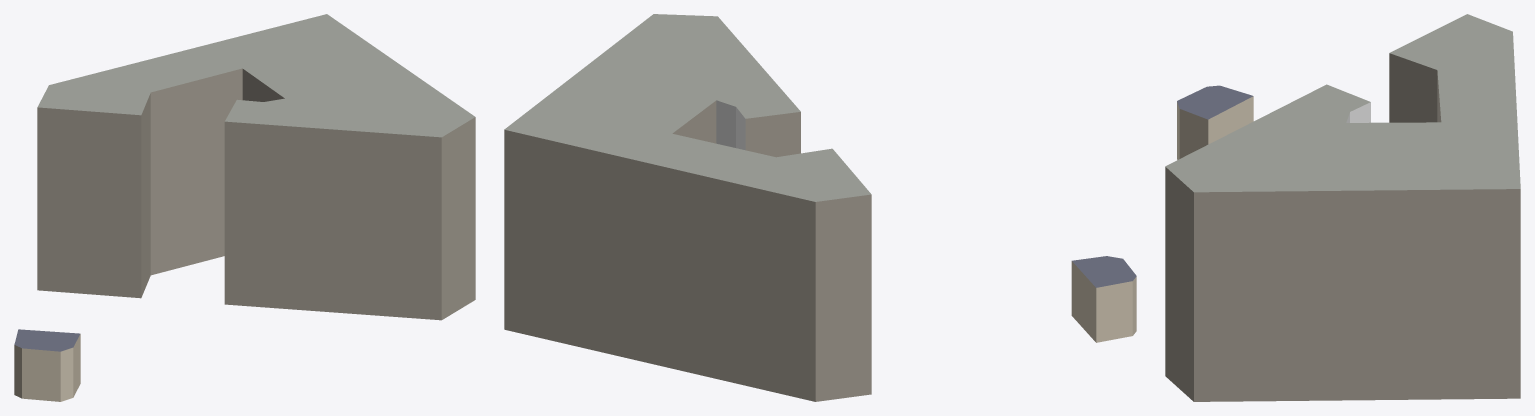
3 renders of one model, left to right at view 1: azimuth 30°, elevation 25°; view 2: azimuth 150°, elevation 25°; view 3: azimuth 270°, elevation 25°, orthographic. The views are drawn at different scales.
Visible parts, largest first — view 1: tuile; view 2: tuile; view 3: tuile.
Part boxes in pixels (x1,y1,x2,y2): tuile: (14, 14, 475, 401); tuile: (504, 14, 1136, 401); tuile: (1165, 14, 1520, 401).
Bounding box in the file's own units: 45.7 × 17.76 × 27.3.
